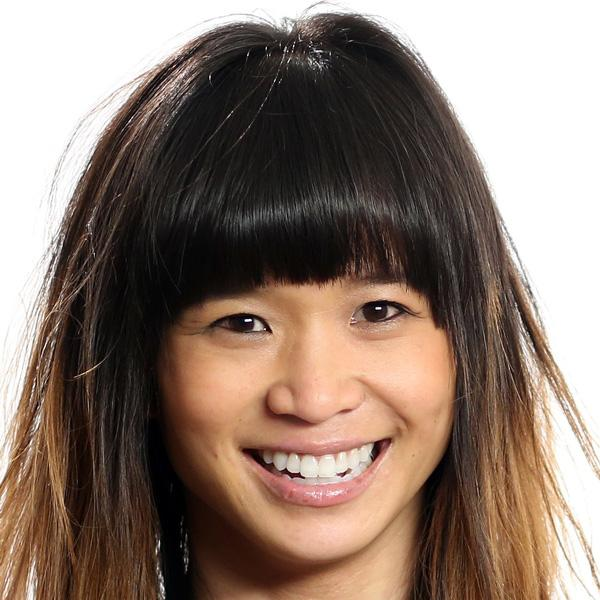Eyes: (203, 302, 279, 351), (342, 289, 418, 338)
